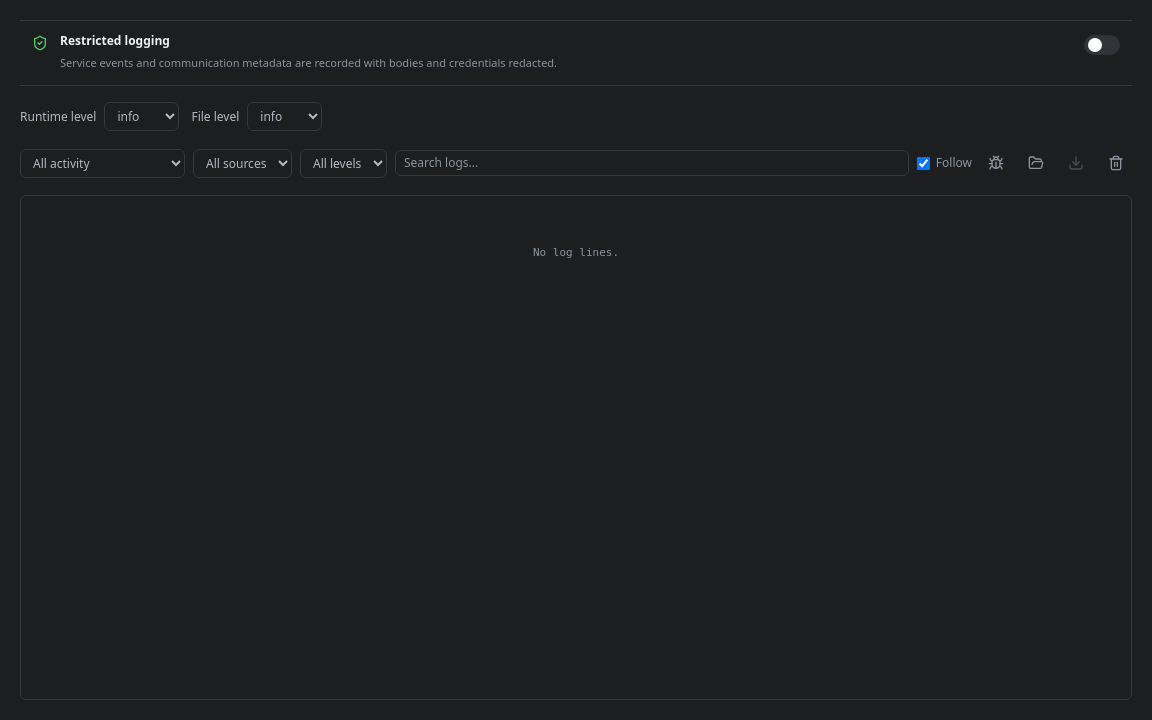
Developer feature workspace › keeps restricted logging by default and gates full communication logs
This screenshot has width=1152, height=720.
Expected: the text "Restricted logging" is shown, [60,32,170,49]
Click the switch named "Full communication logging" at (1102,45), box [1084,35,1120,55]
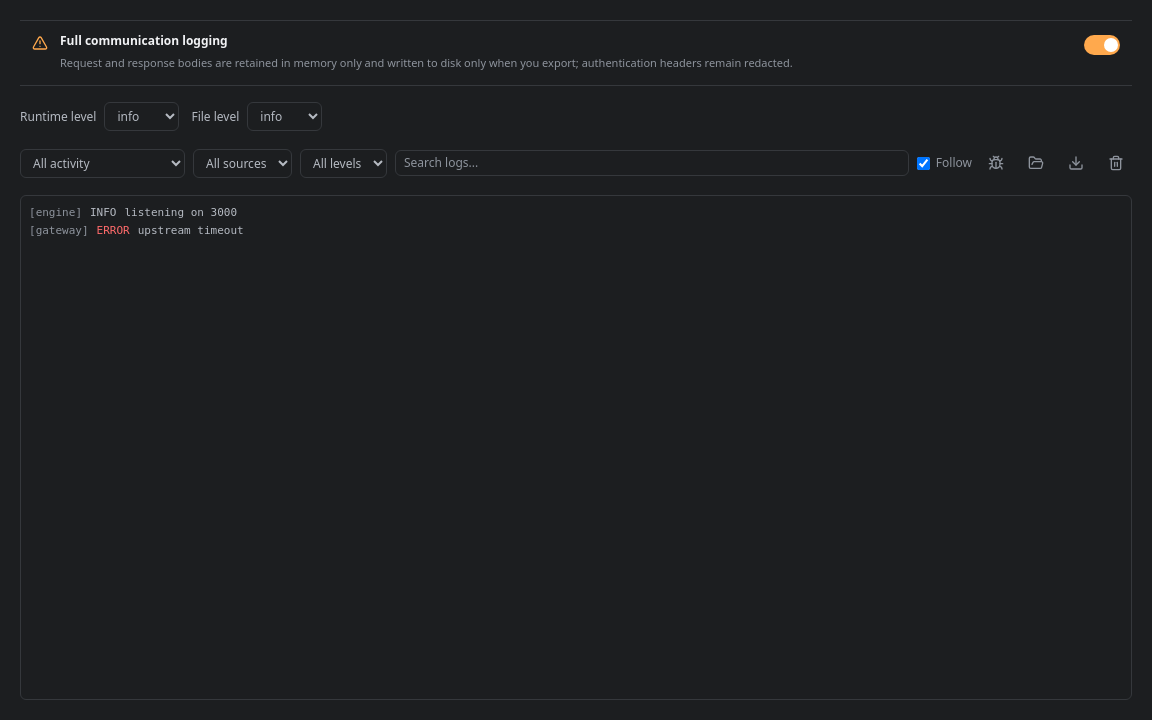
Now the text "retained in memory only" is shown, box [60,55,793,70]
